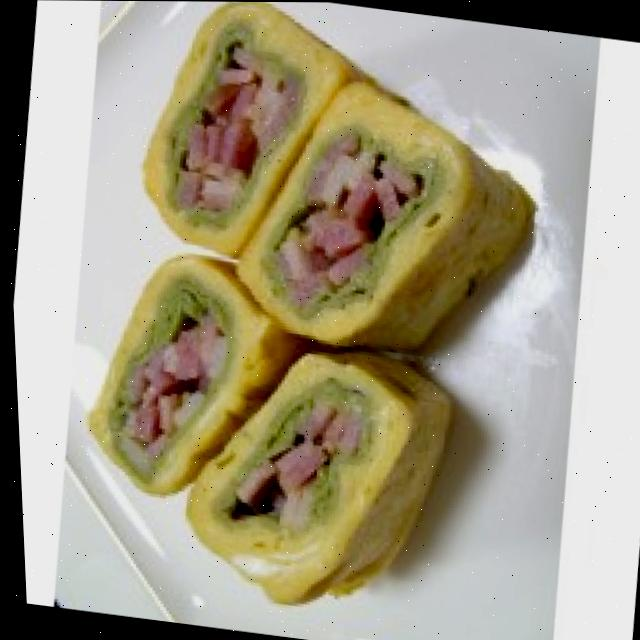鸡蛋料理: (53, 0, 567, 637)
